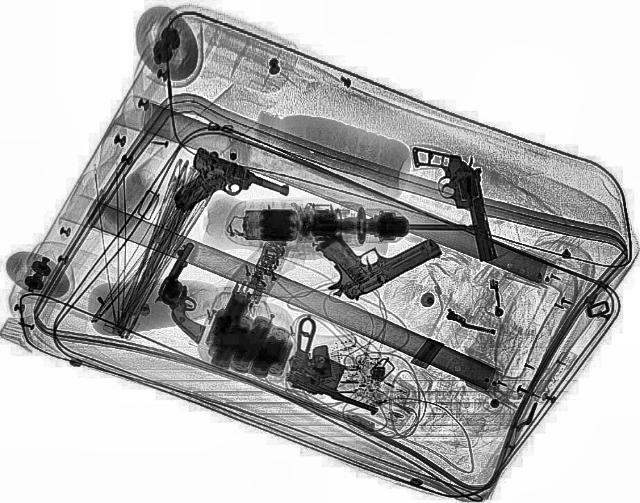Gun: (260, 314, 416, 417), (298, 204, 446, 302), (160, 146, 296, 236), (136, 241, 248, 343), (410, 139, 500, 265)
